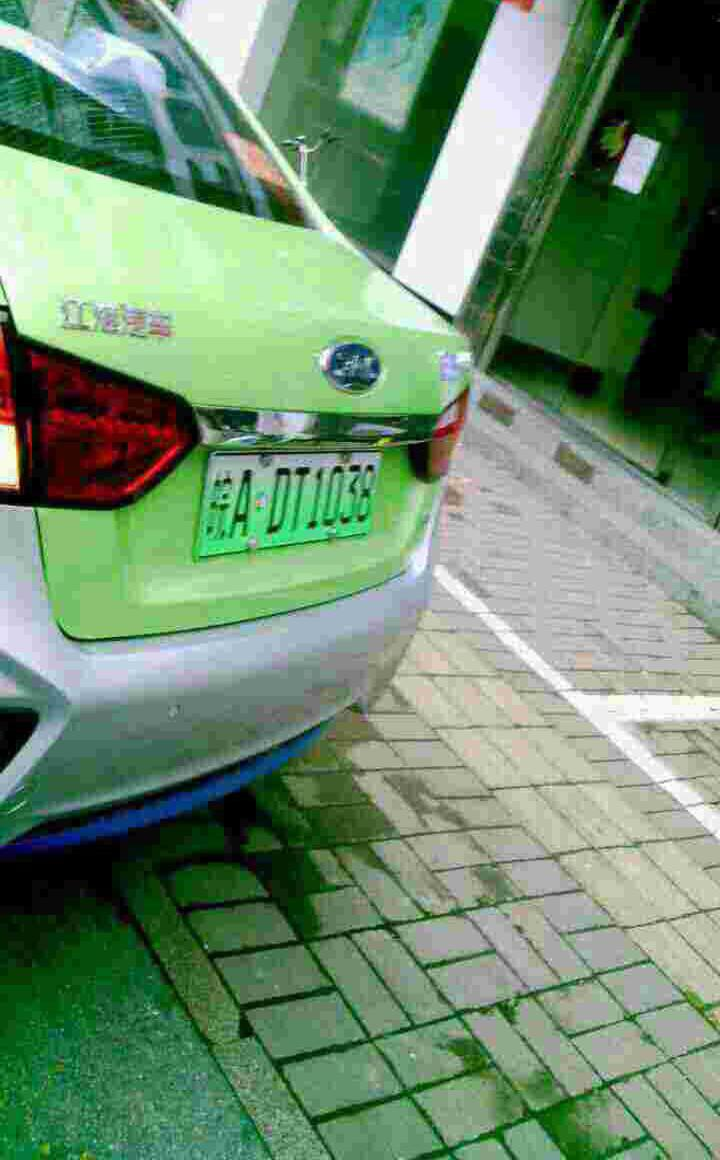car_id: (195, 450, 384, 549)
